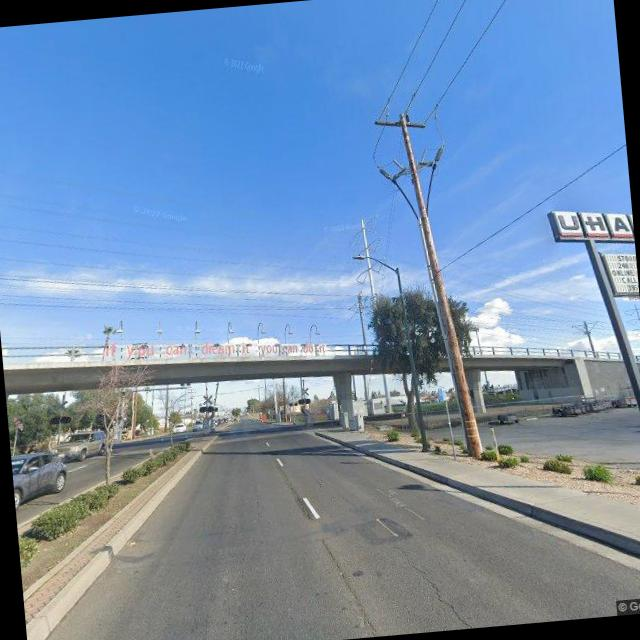pothole: (391, 536, 500, 634), (320, 534, 385, 640)
